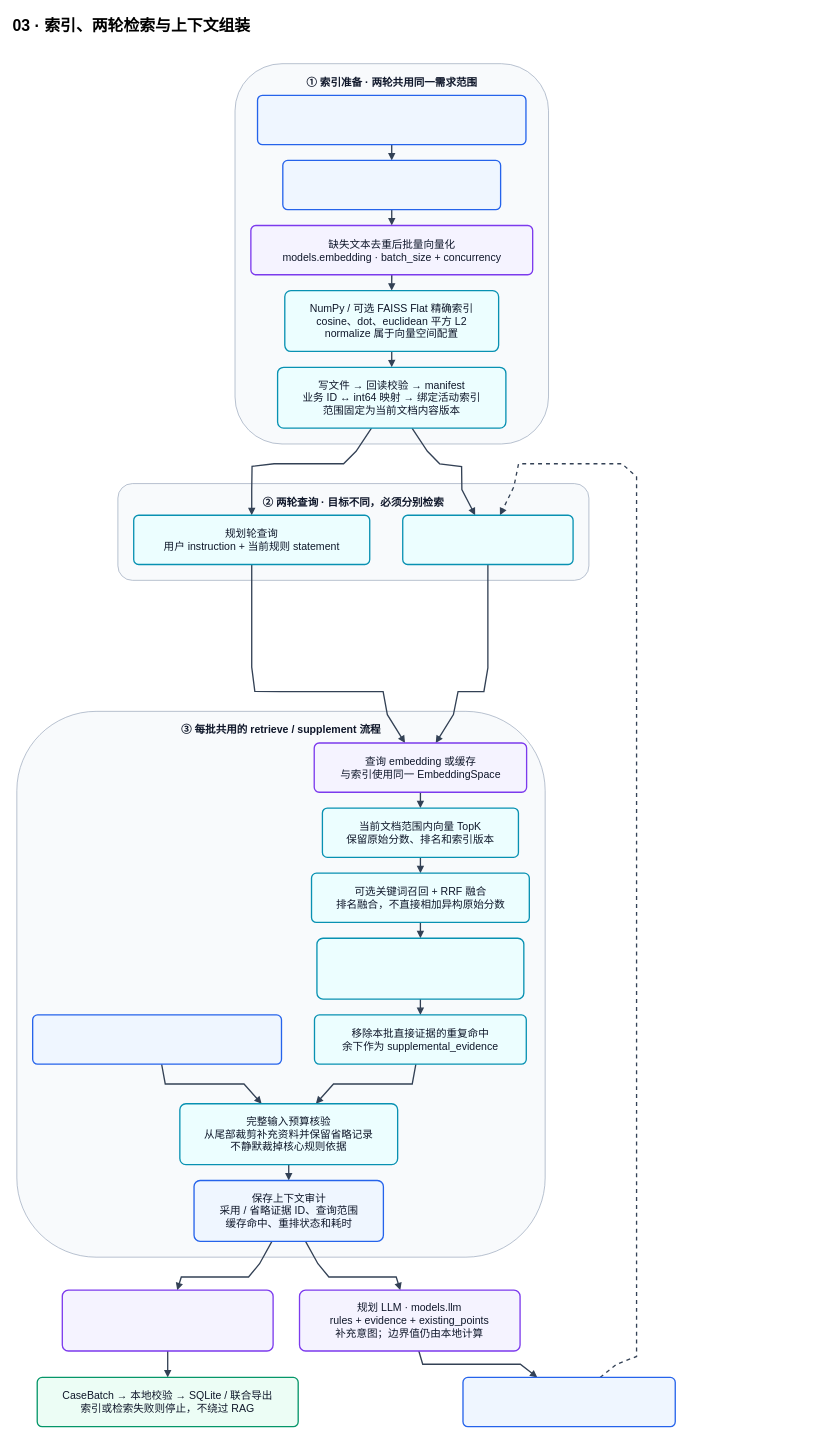
Image size: 814x1439. Some labels were removed from this diagram. Each missing label, with the box of its shape:
保存全部测试点 仅 ready + applicable 进入生成轮: (462, 1376, 676, 1427)
可选 models.rerank 只重排前 rerank_top_n 候选 失败保留已有排名并记录 fallback: (316, 937, 524, 999)
按空间 + 文本指纹查向量缓存 校验数量、维度、有限数及内容指纹: (282, 159, 501, 210)
按规则直接加载核心证据 不依赖检索命中；生成时带同功能关联规则: (32, 1014, 282, 1065)
有效 EvidenceSpan + ChunkSource 原文区间 原文 source_* 不是自动新增的需求规则: (257, 94, 526, 145)
生成 LLM · models.llm points + rules + evidence + Skill 每步引用限定的规则与证据: (61, 1289, 273, 1351)
生成轮查询 当前就绪测试点 objective: (402, 514, 573, 565)
